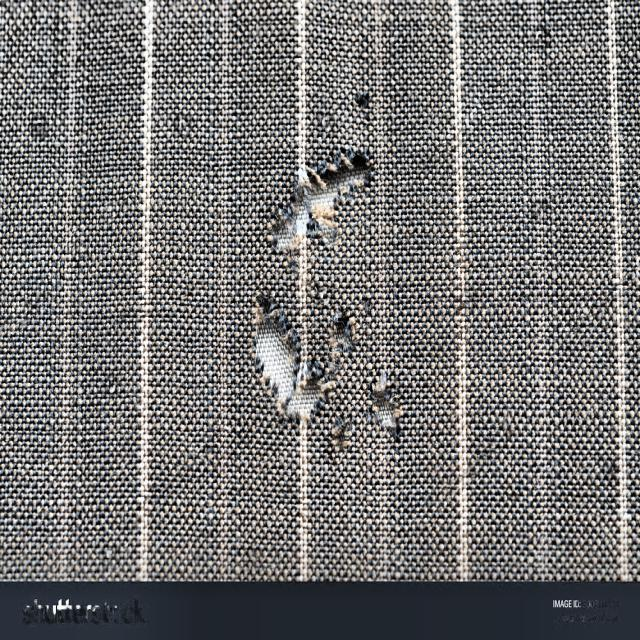Hole: (248, 271, 412, 456), (251, 142, 390, 258), (350, 81, 378, 109)
